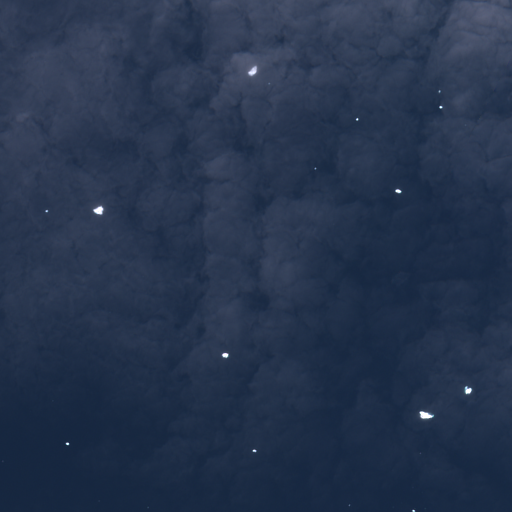Iceberg: (419, 411, 433, 419), (93, 205, 103, 214), (248, 65, 256, 76), (464, 386, 472, 394), (222, 353, 228, 358), (395, 189, 401, 193), (65, 442, 69, 445), (252, 449, 256, 452), (439, 105, 442, 108), (45, 210, 48, 212), (412, 509, 415, 511), (438, 90, 440, 92), (356, 118, 358, 120), (314, 167, 316, 169), (348, 504, 350, 506), (268, 82, 269, 84)
